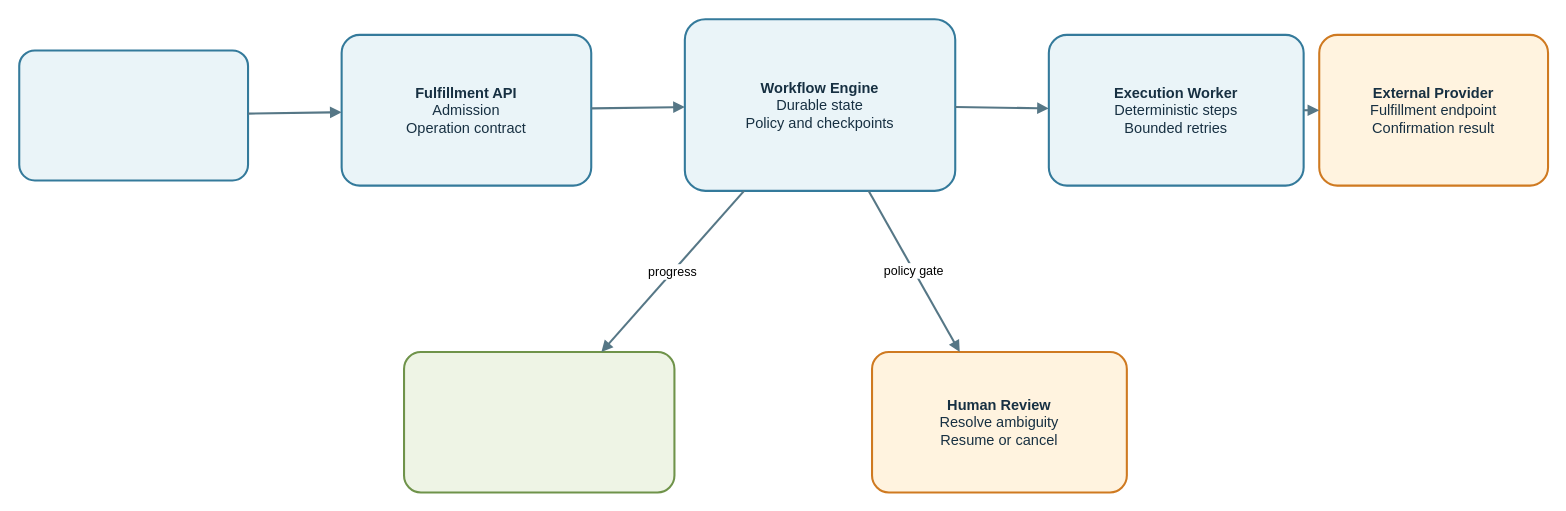
The diagram is 1566 pixels wide and 511 high, and some of its shapes have lost their labels. The centre of each missing label's shape, as x and y in pixels:
"Client Submit request Track and cancel" goes at point (133, 115).
"Events and Audit Ordered progress Immutable decisions" goes at point (538, 421).
